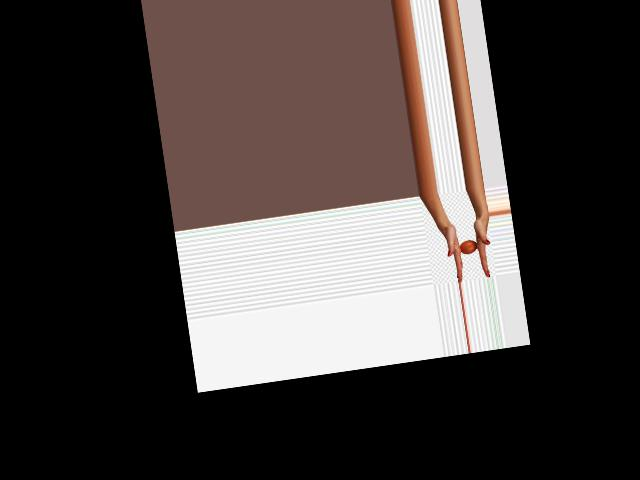egg: (458, 239, 477, 254)
